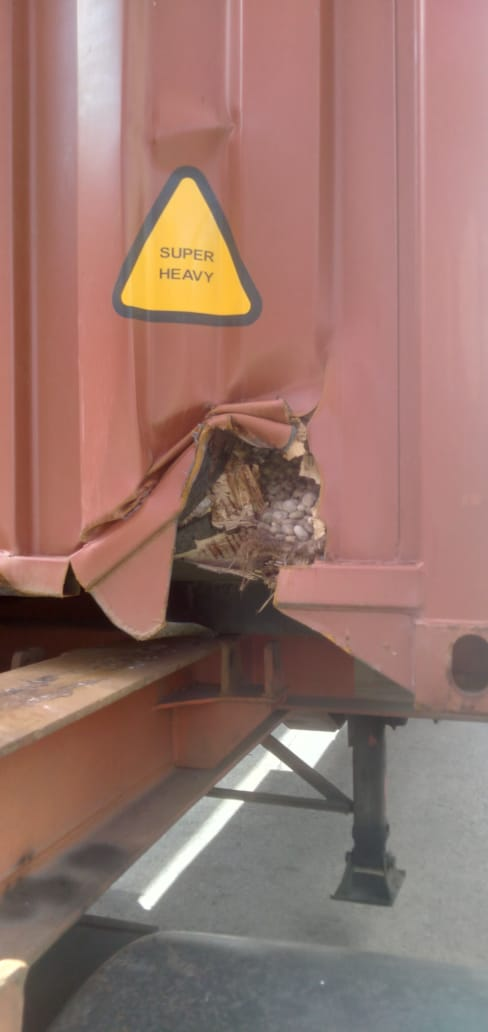cut: (122, 378, 377, 615)
